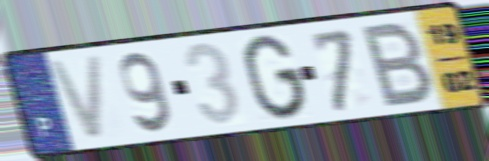3: (182, 39, 246, 129)
7: (310, 26, 356, 114)
9: (116, 49, 174, 137)
B: (360, 18, 437, 111)
G: (241, 32, 310, 123)
V: (44, 51, 107, 144)
